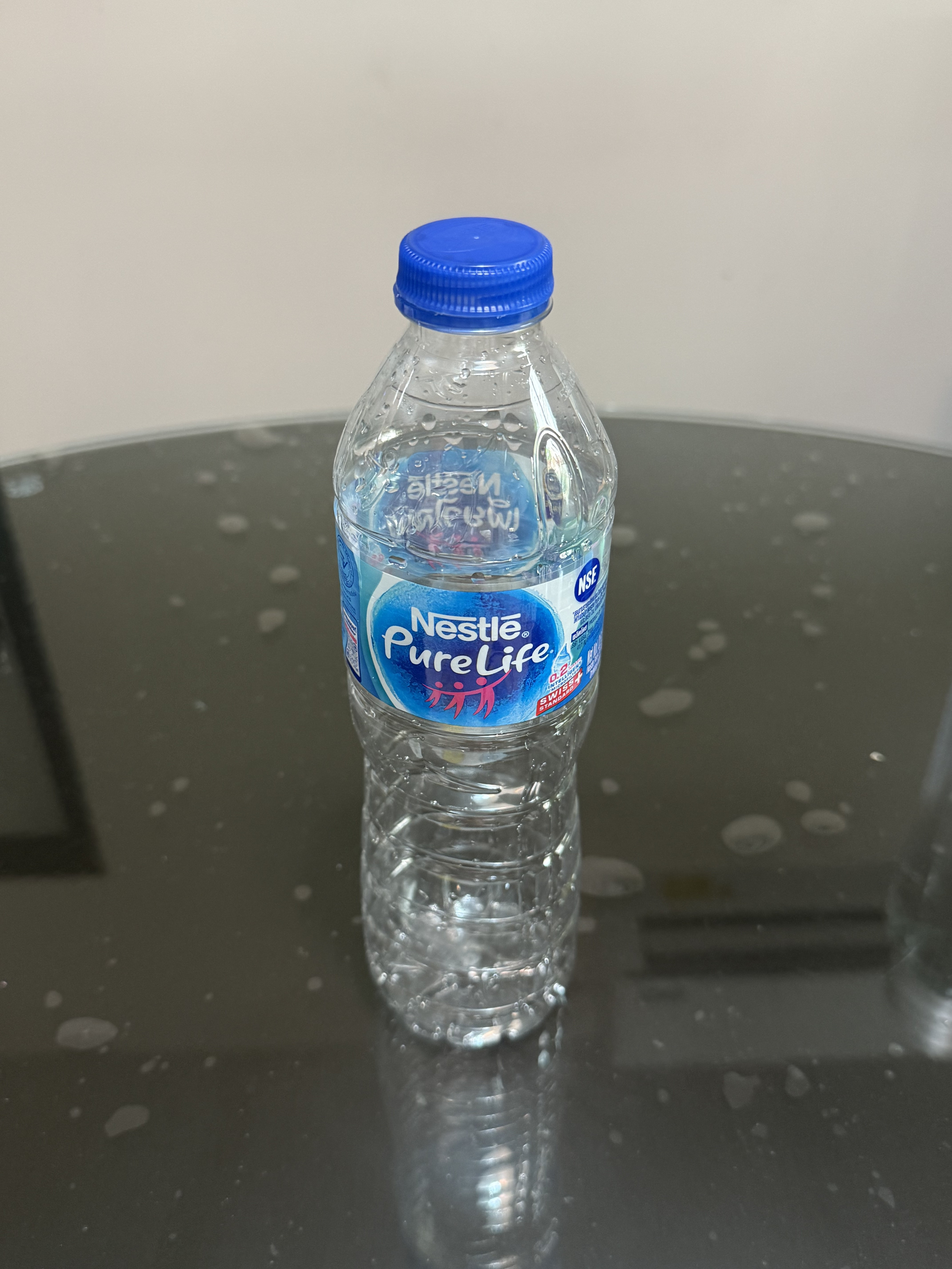closed_cap: (391, 213, 556, 330)
